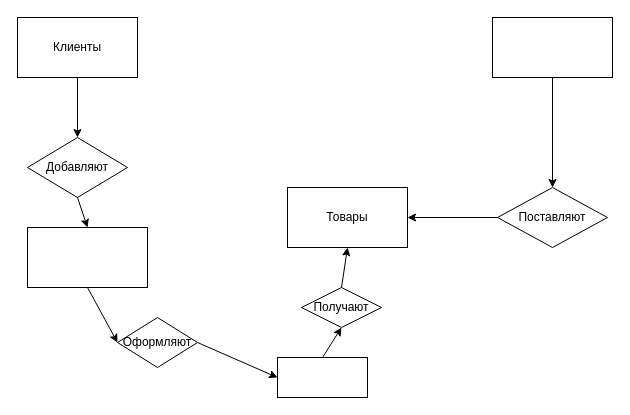
Image size: 630x415. Some labels were removed from this diagram. Each missing label, with the box of its shape:
Заказы: (276, 356, 368, 398)
Корзины: (26, 226, 148, 288)
Поставщики: (492, 16, 612, 78)
